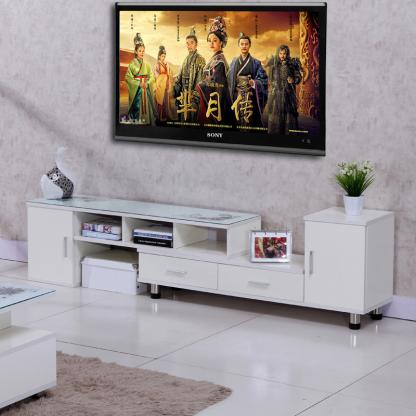Ceramic floor: (10, 288, 416, 416)
TV stand: (27, 196, 396, 328)
